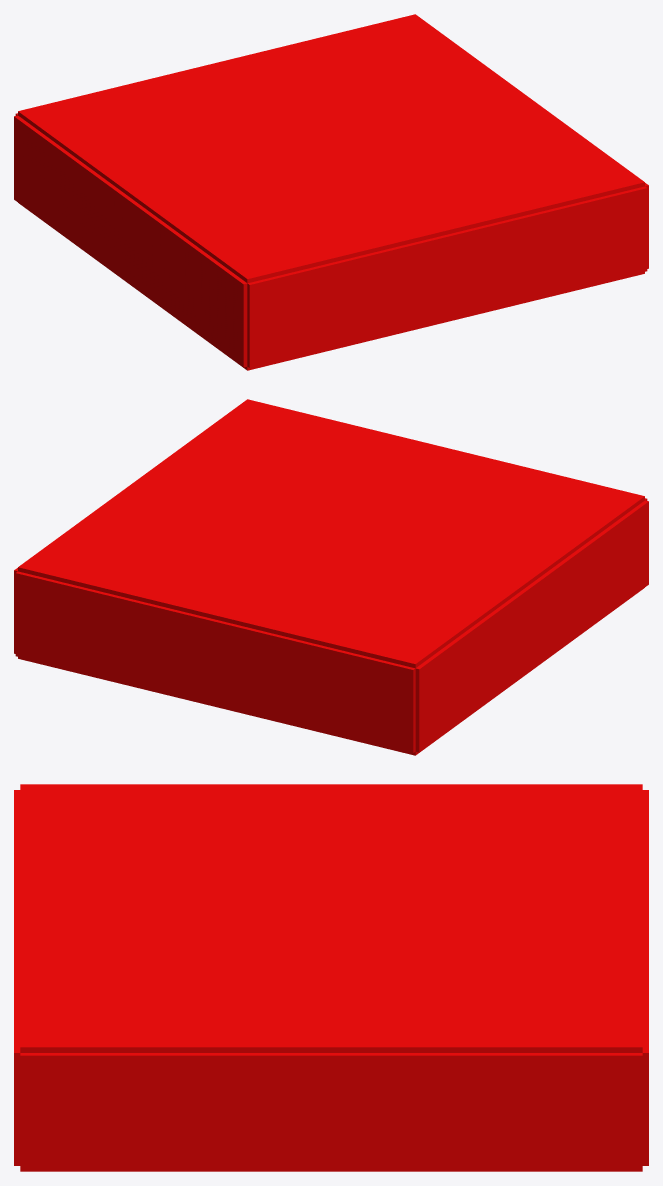
Rendered from room.gltf.
3 views of the same model, one above another, from view 1: azimuth 30°, elevation 25°; view 2: azimuth 150°, elevation 25°; view 3: azimuth 270°, elevation 25° (orthographic). The views are drawn at different scales.
Size of the model in its own units: 20.4 by 4.4 by 20.4.
